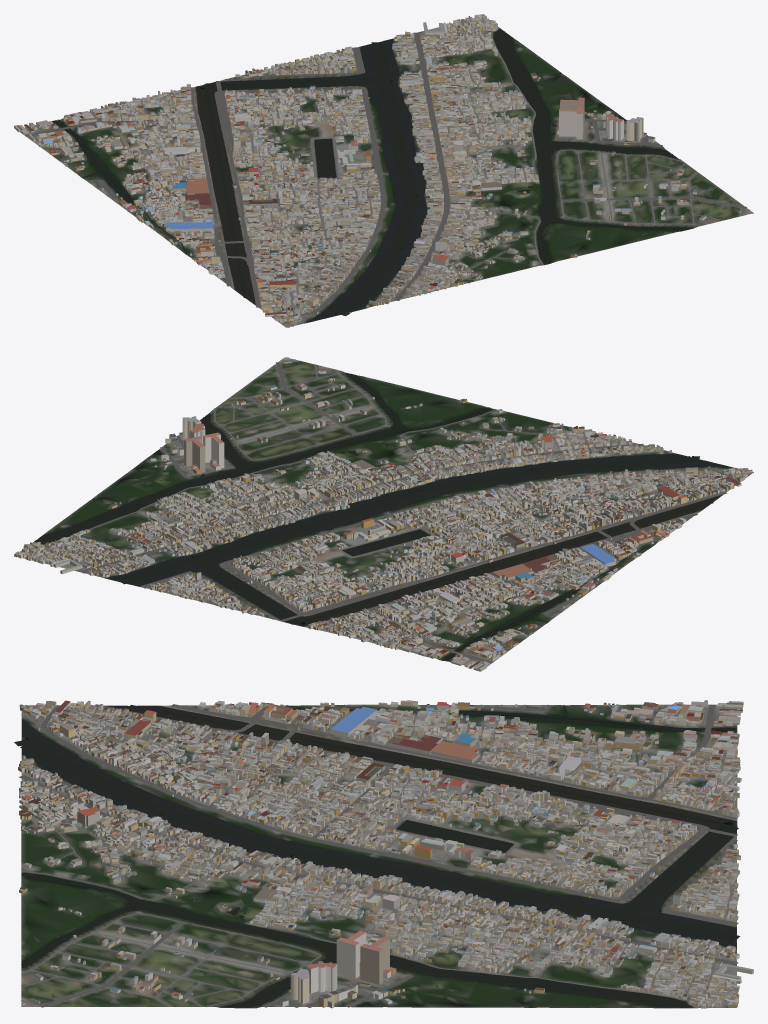
3 renders of one model, top to bottom at view 1: azimuth 30°, elevation 25°; view 2: azimuth 150°, elevation 25°; view 3: azimuth 270°, elevation 25°, orthographic. The views are drawn at different scales.
Parts seen in each view (by area): view 1: buildings, ground, water, roads; view 2: buildings, ground, water, roads; view 3: buildings, ground, water, roads.
Part boxes in pixels (bbox=[...]): buildings: bbox=[14, 14, 750, 327]; ground: bbox=[20, 19, 753, 327]; water: bbox=[52, 28, 692, 322]; roads: bbox=[25, 22, 749, 324]; buildings: bbox=[14, 357, 752, 671]; ground: bbox=[14, 357, 753, 667]; water: bbox=[33, 372, 732, 660]; roads: bbox=[40, 359, 740, 665]; buildings: bbox=[18, 700, 753, 1008]; ground: bbox=[21, 704, 737, 1008]; water: bbox=[14, 705, 740, 1008]; roads: bbox=[19, 704, 738, 1007].
Size of the model in its own units: 1419 by 77.15 by 1448.
